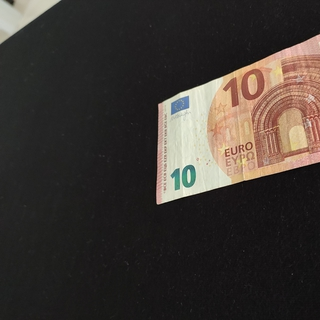10EUROFront: (154, 14, 320, 204)
